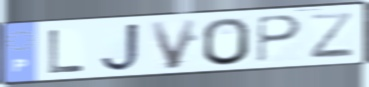J: (98, 21, 142, 74)
L: (46, 28, 87, 75)
O: (200, 16, 252, 67)
P: (255, 14, 305, 65)
V: (146, 17, 201, 72)
Z: (308, 10, 357, 60)
